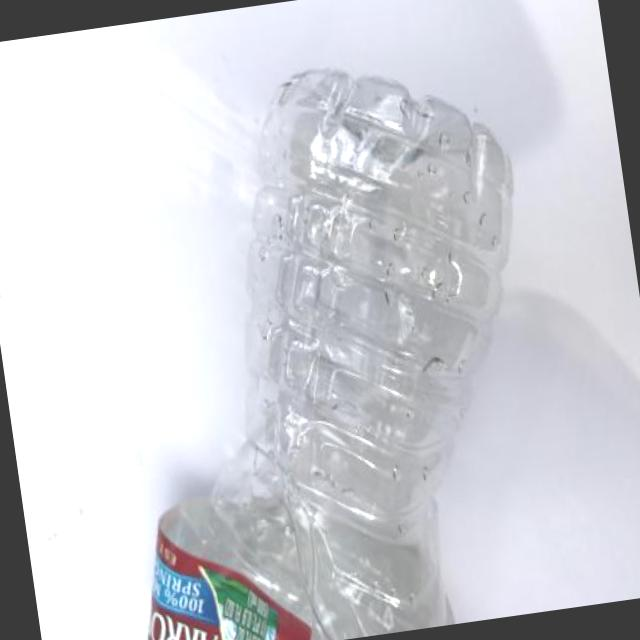Recycle: (82, 41, 572, 640)
